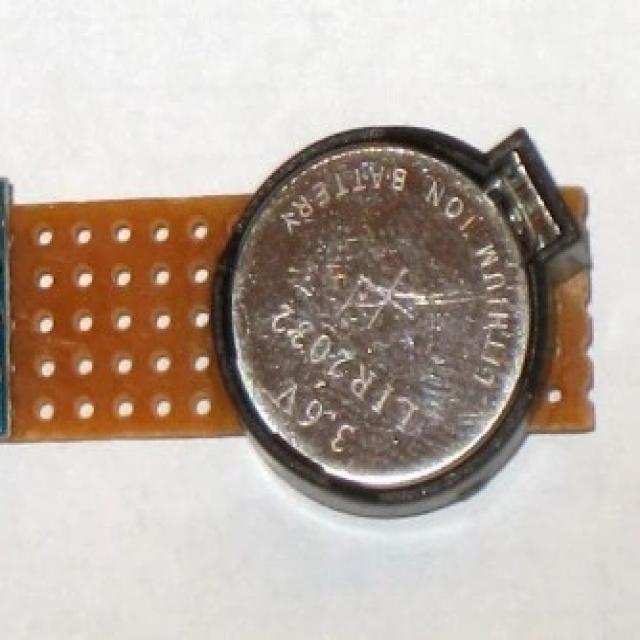battery: (219, 110, 549, 500)
